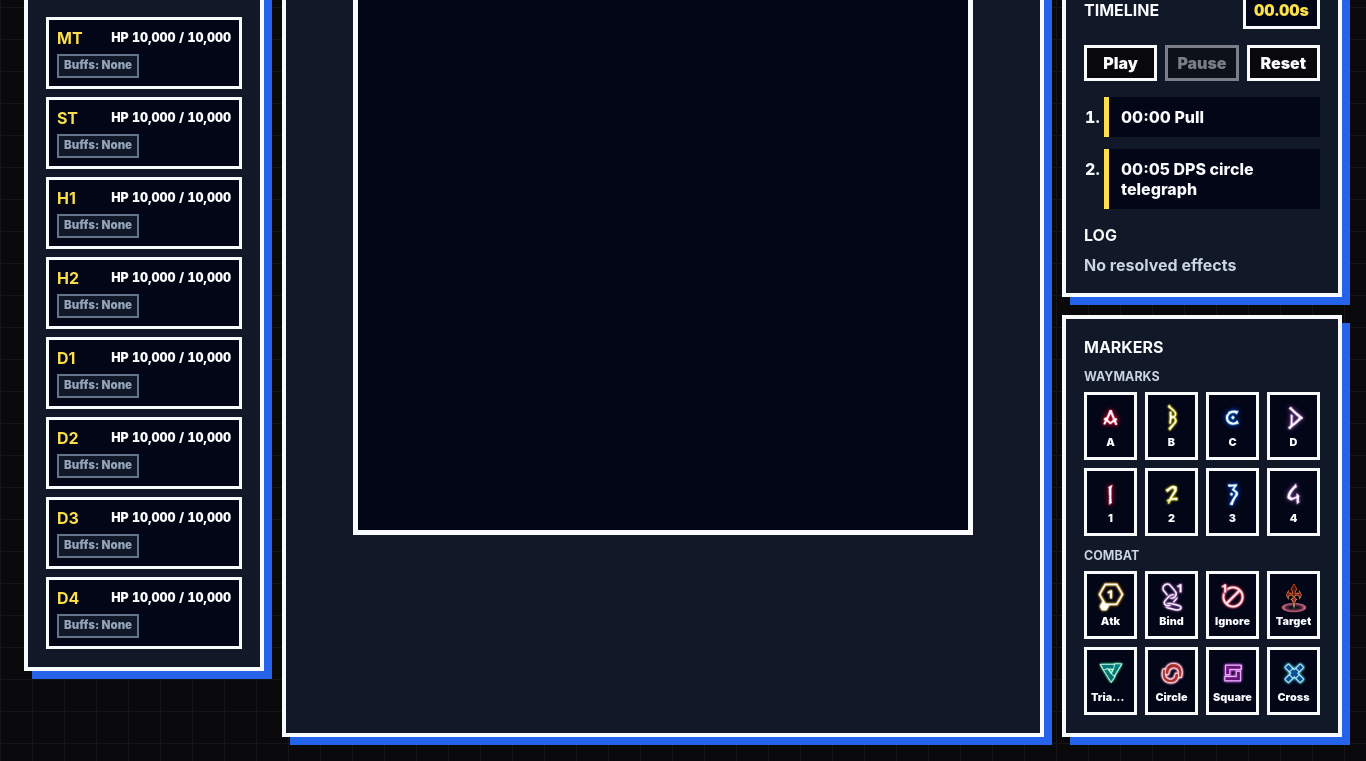
Test: App › places combat markers on targets instead of the arena floor
The width and height of the screenshot is (1366, 761).
(page scrolled)
Click the button "Atk".
click(1110, 605)  # box [1084,571,1137,639]
(page scrolled)
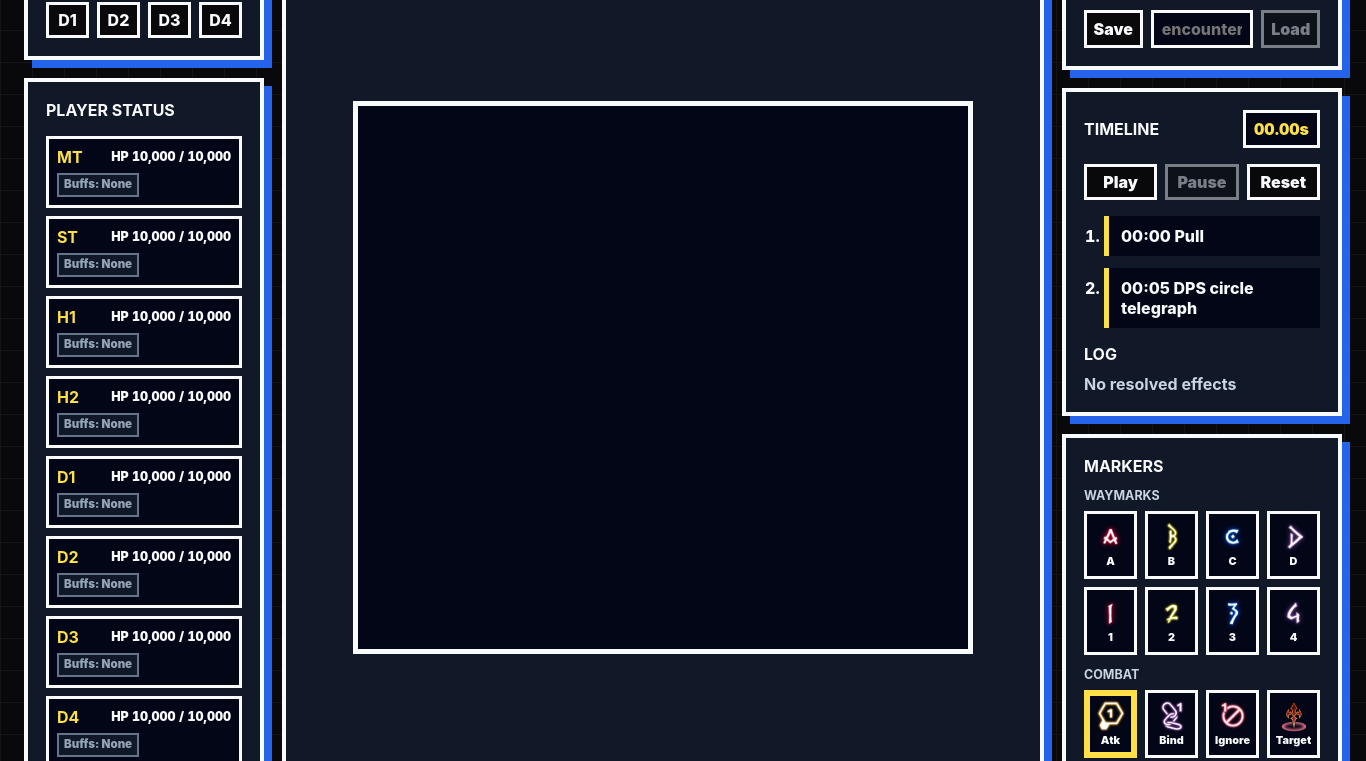
Click the drawing "Arena canvas".
click(663, 378)  # box [353,101,973,654]
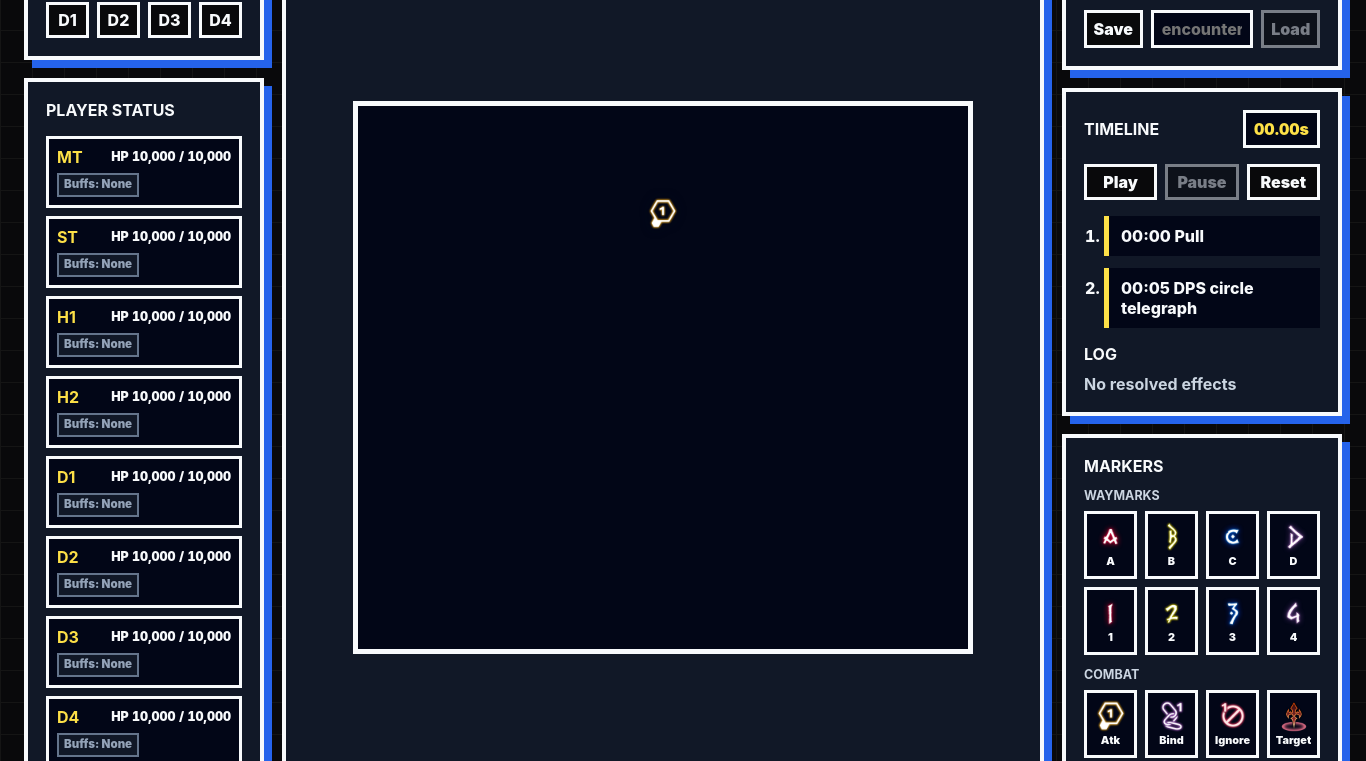
Expected: the picture named "Target Attack marker 1" is shown, [647,198,679,230]
